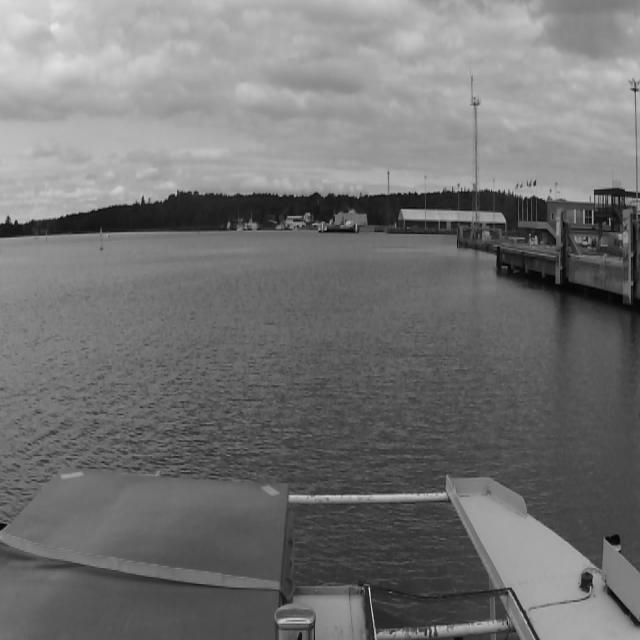buoy: (99, 228, 103, 250), (46, 230, 48, 242)
ship: (315, 213, 359, 232), (328, 216, 354, 228)
